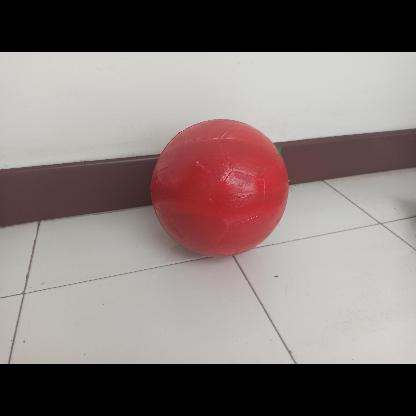red_ball: (150, 119, 288, 256)
